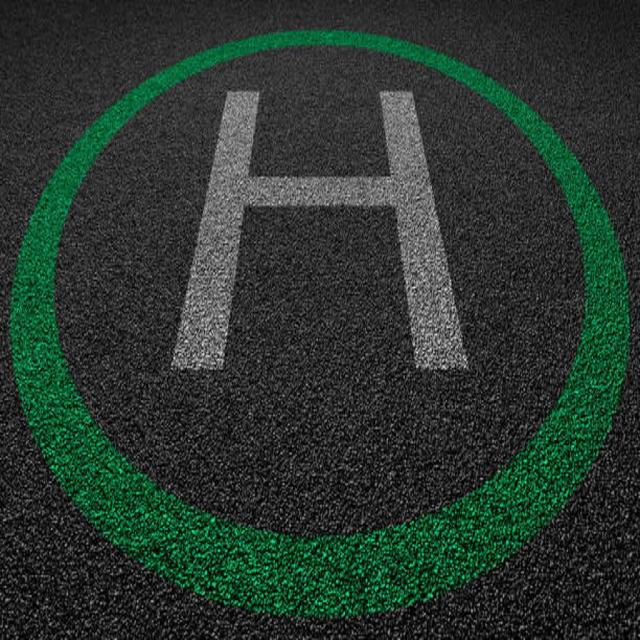helipad: (6, 27, 632, 617)
